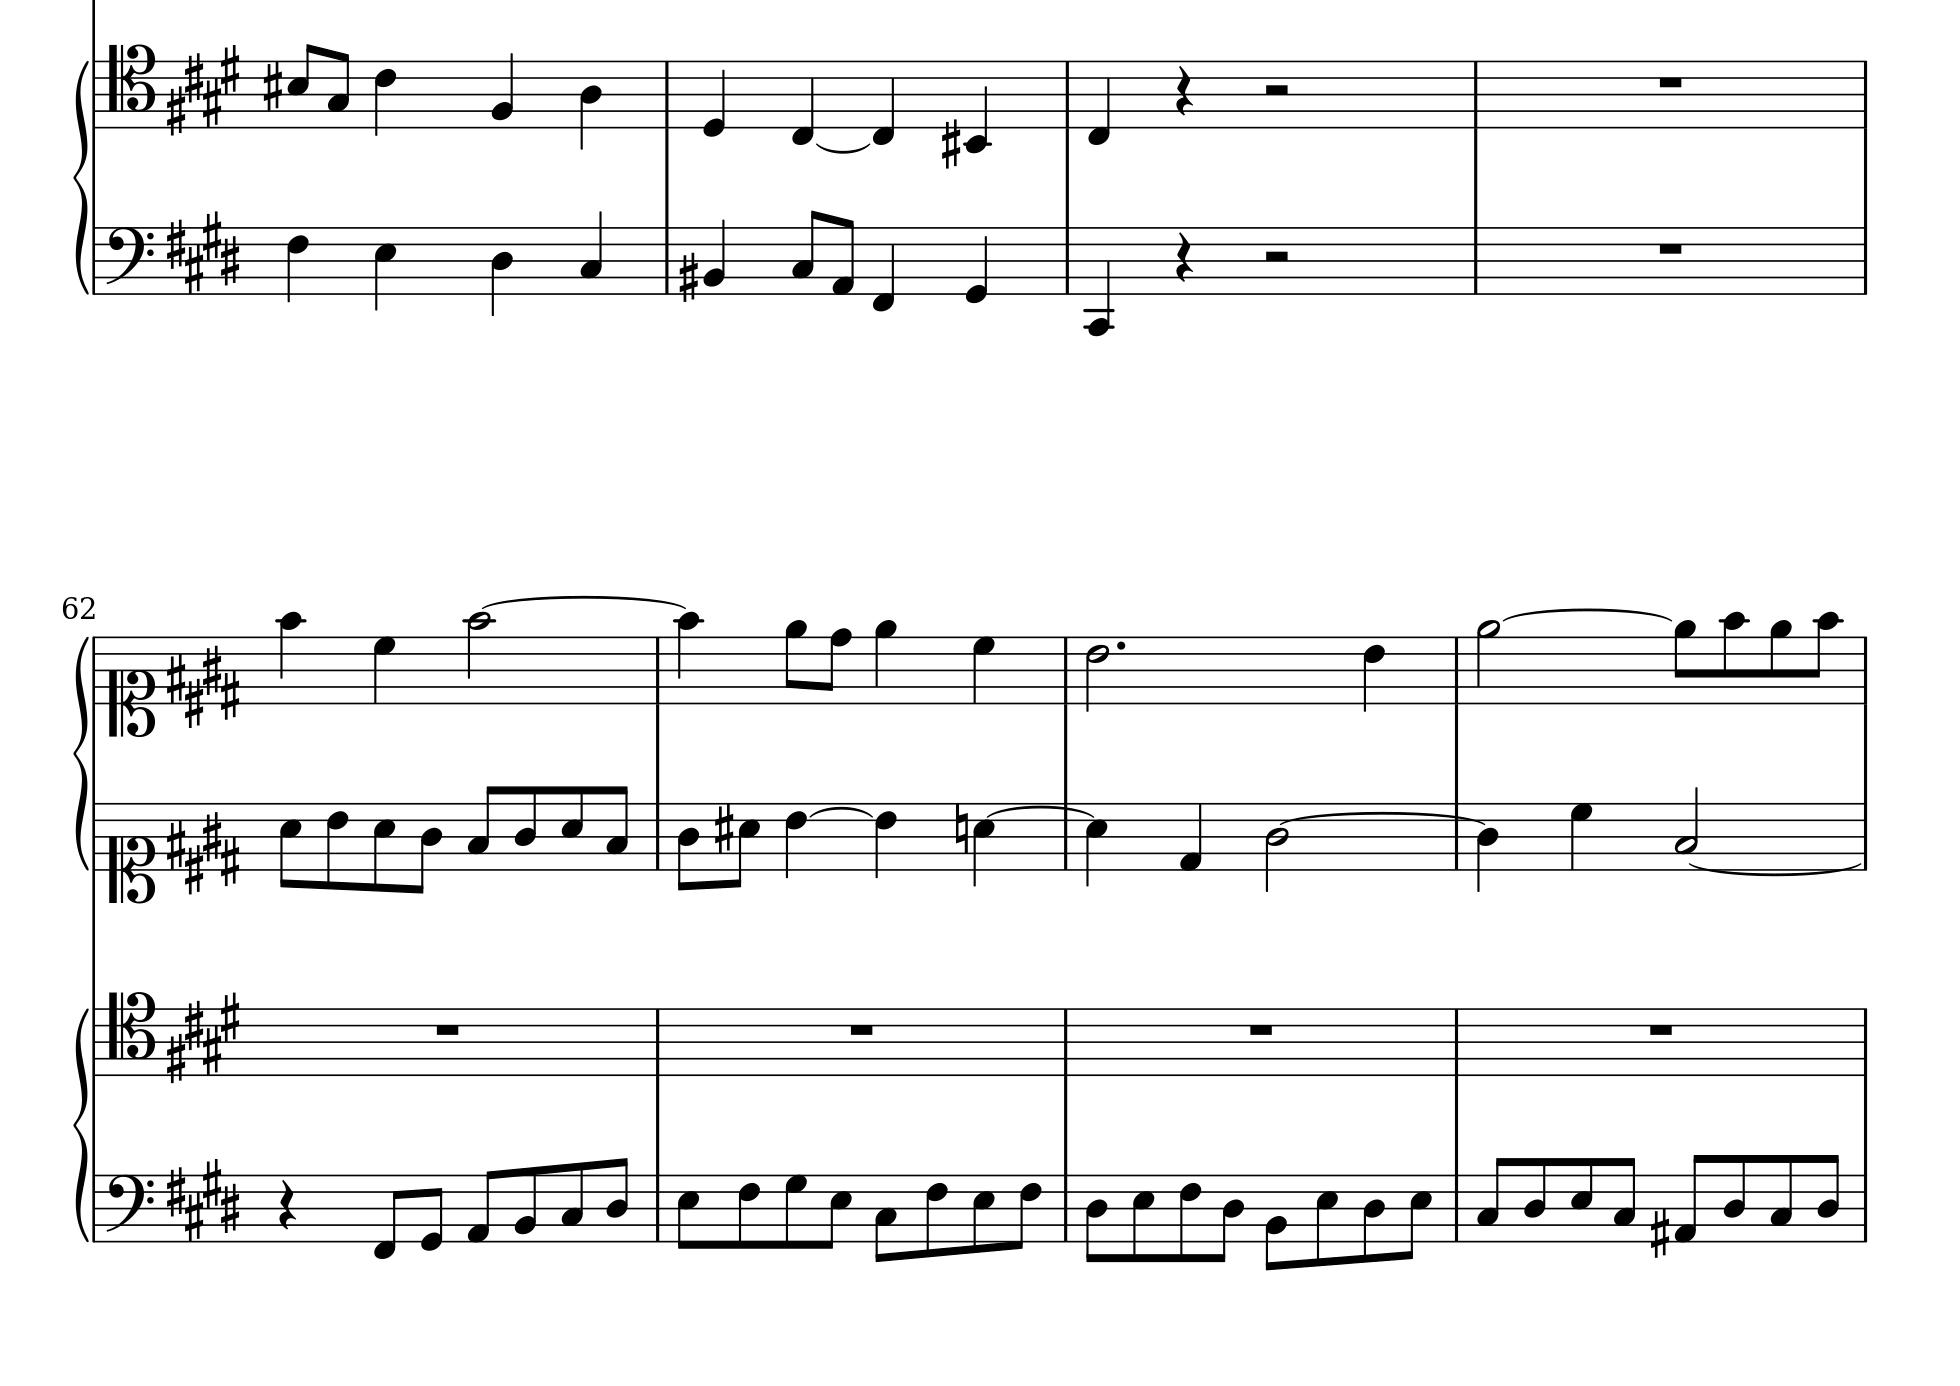2_10: (465, 609, 493, 706)
2_3: (1674, 783, 1701, 871)
2_4: (1264, 802, 1290, 892)
2_6: (1084, 634, 1111, 712)
2_8: (1476, 616, 1500, 706)
4_-1: (787, 57, 816, 145), (870, 223, 897, 313), (1086, 58, 1113, 147), (870, 58, 895, 145)
4_-2: (964, 58, 990, 154)
4_-4: (1086, 223, 1116, 336)
4_0: (702, 58, 727, 138), (964, 225, 990, 304)
4_1: (1179, 801, 1204, 873)
4_10: (277, 610, 304, 706), (675, 610, 702, 706)
4_2: (490, 49, 516, 129), (702, 216, 727, 295)
4_3: (580, 208, 604, 295)
4_4: (577, 58, 603, 150), (489, 225, 514, 316), (1476, 799, 1500, 892)
4_5: (373, 225, 397, 313)
4_6: (1083, 799, 1110, 886), (283, 225, 310, 307), (372, 57, 399, 136), (873, 799, 898, 880), (783, 799, 808, 877), (1362, 634, 1386, 712)
4_7: (1569, 799, 1596, 870), (970, 634, 996, 706), (370, 634, 396, 705)
4_9: (873, 616, 897, 706)
6: (61, 594, 79, 619), (79, 594, 97, 619)
8_-1: (373, 1171, 403, 1260)
8_0: (420, 1171, 445, 1252)
8_1: (1674, 1152, 1713, 1243), (466, 1168, 498, 1243), (829, 216, 856, 297)
8_10: (1810, 610, 1842, 706), (1720, 610, 1747, 706)
8_2: (1264, 1173, 1288, 1273), (513, 1165, 538, 1243)
8_3: (466, 784, 499, 871), (790, 208, 822, 295), (1476, 1155, 1506, 1243), (873, 1171, 898, 1264), (1770, 1152, 1795, 1243), (604, 783, 630, 871), (561, 1159, 586, 1243), (1614, 1155, 1638, 1243), (325, 49, 352, 127)
8_4: (415, 802, 444, 895), (1216, 1173, 1245, 1263), (675, 799, 700, 892), (1084, 1171, 1108, 1264), (1362, 1171, 1386, 1264), (513, 784, 538, 871), (1723, 1152, 1747, 1243), (1818, 1152, 1842, 1243), (607, 1155, 631, 1243), (1524, 1155, 1548, 1243)
8_5: (729, 799, 760, 889), (286, 40, 316, 129), (1404, 1171, 1434, 1260), (370, 799, 397, 894), (822, 1171, 853, 1251), (277, 799, 303, 891), (1314, 1171, 1338, 1267), (559, 783, 585, 871), (1570, 1155, 1596, 1243), (1131, 1171, 1155, 1264), (970, 1171, 996, 1255), (676, 1171, 700, 1251)
8_6: (1176, 1171, 1203, 1264), (1014, 1171, 1044, 1251), (922, 1171, 948, 1260), (325, 799, 349, 892), (736, 1171, 760, 1251)
8_7: (781, 1171, 808, 1251)
8_8: (820, 627, 852, 706)
8_9: (1674, 619, 1698, 706), (1770, 619, 1794, 706), (784, 618, 807, 706)
Brace: (70, 55, 91, 295), (70, 1005, 91, 1243), (70, 637, 91, 870), (478, 592, 693, 609), (1278, 811, 1491, 826), (1501, 607, 1671, 622), (1689, 862, 1858, 876)
E_S: (163, 990, 243, 1083), (163, 42, 243, 133), (165, 637, 243, 727), (165, 802, 241, 894), (163, 208, 241, 294), (165, 1158, 241, 1242)
Fclef: (103, 1171, 154, 1246), (102, 226, 148, 283)
Natural: (952, 801, 970, 855)
Rests1: (1245, 1020, 1278, 1038), (432, 1020, 463, 1038), (846, 1020, 877, 1038), (1656, 72, 1686, 90), (1656, 238, 1686, 256), (1647, 1020, 1677, 1038)
Rests2: (1260, 247, 1293, 265), (1261, 81, 1293, 99)
Rests4: (970, 801, 997, 889), (274, 1177, 298, 1234), (1173, 229, 1194, 285), (1173, 64, 1194, 118)
Sharp: (676, 249, 700, 303), (712, 799, 735, 853), (262, 58, 283, 111), (940, 118, 961, 169), (1650, 1207, 1671, 1258)
Single_barline: (1851, 634, 1875, 703), (1444, 1006, 1468, 1075), (1446, 634, 1468, 703), (1852, 1173, 1875, 1242), (1446, 802, 1468, 868), (1056, 802, 1078, 868), (1056, 634, 1077, 703), (1056, 1006, 1077, 1075), (1854, 1006, 1875, 1075), (1854, 802, 1875, 870), (1446, 1173, 1467, 1240), (1059, 60, 1078, 127), (648, 636, 667, 703), (648, 802, 667, 870), (1056, 1173, 1075, 1240), (658, 60, 676, 127), (1059, 226, 1077, 294), (1467, 226, 1485, 294), (1467, 61, 1485, 127), (649, 1006, 666, 1075), (658, 226, 675, 294), (649, 1173, 666, 1240), (88, 801, 103, 871), (88, 1006, 103, 1075), (88, 1173, 103, 1242), (88, 60, 103, 127), (1857, 226, 1872, 294), (1858, 60, 1872, 129), (88, 226, 102, 294), (88, 636, 102, 703)
Slur: (984, 804, 1095, 817), (808, 805, 873, 817), (814, 141, 871, 154)
Soprano_Cclef: (106, 634, 157, 739), (106, 799, 156, 907)
Tensor_Cclef: (106, 988, 157, 1078), (106, 40, 157, 127)
dot: (1113, 636, 1131, 655)
